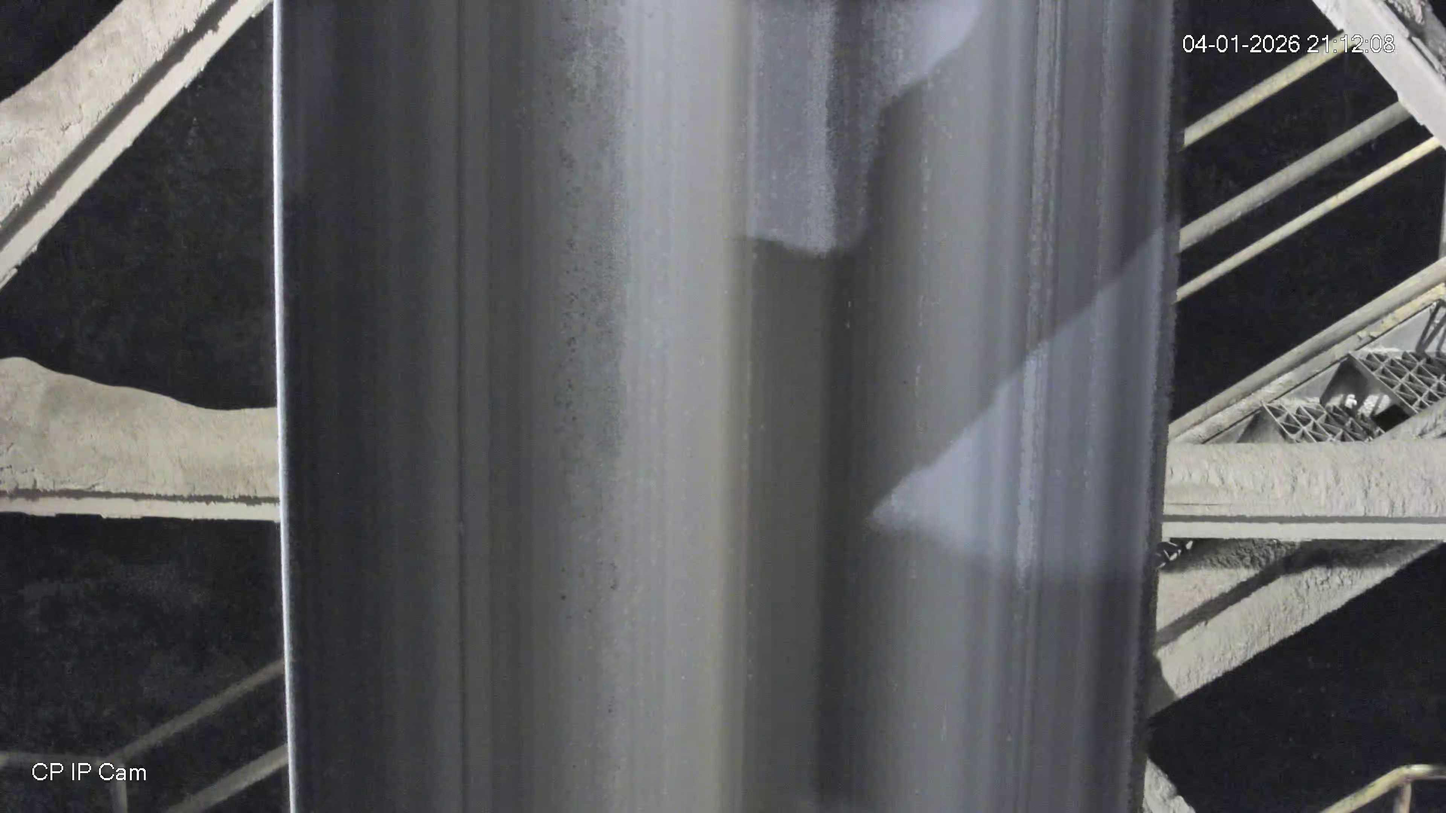belt_roi: (271, 1, 1184, 813)
